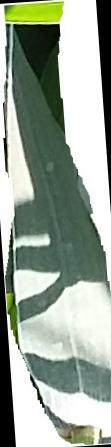Wheat: (6, 212, 104, 353), (1, 36, 74, 207)
